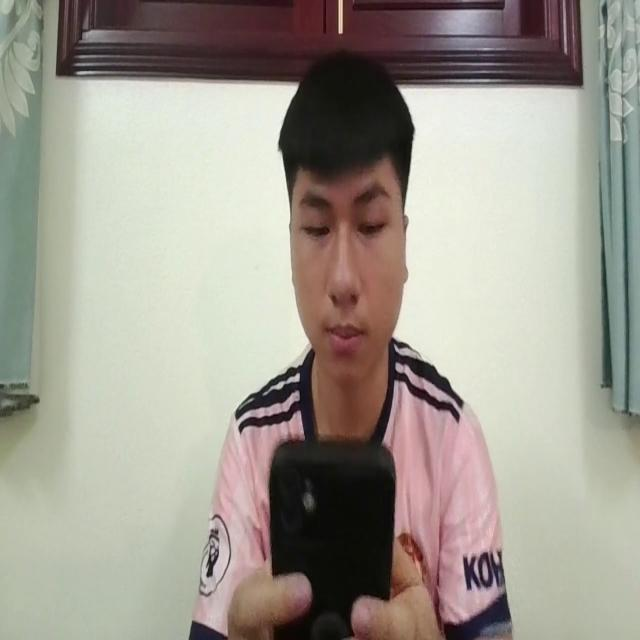phone: (264, 413, 399, 640)
student: (185, 48, 514, 640)
